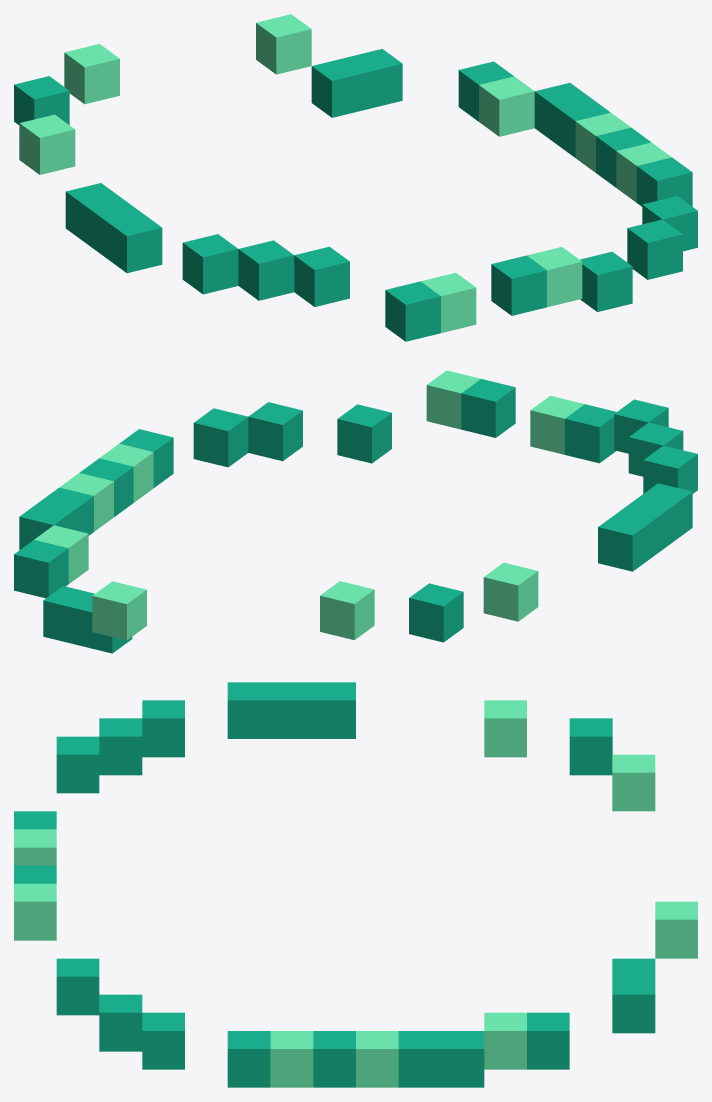
The model's file is anelsaturno-verde3.obj.
3 views of the same model, one above another, from view 1: azimuth 30°, elevation 25°; view 2: azimuth 150°, elevation 25°; view 3: azimuth 270°, elevation 25° (orthographic). The views are drawn at different scales.
Size of the model in its own units: 1.6 by 0.3 by 1.6.
Materials: 1 (1 with a texture image).
